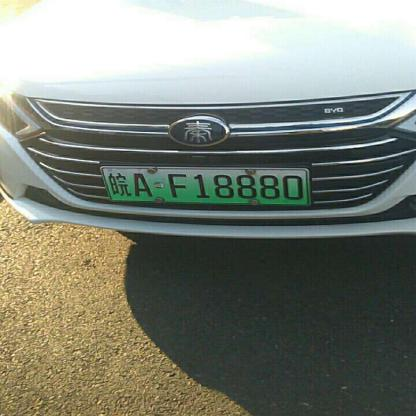lp: (98, 166, 312, 204)
